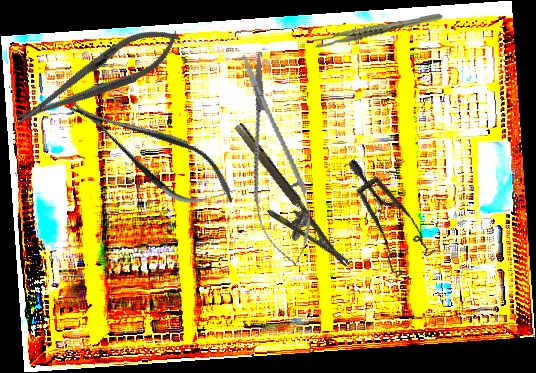Micro Scissor: (57, 77, 248, 227), (223, 47, 323, 271)
Needle Holder: (214, 121, 351, 285), (7, 15, 188, 139)
Speculum: (309, 157, 456, 289)
Tissue Forceps: (310, 12, 444, 49)
